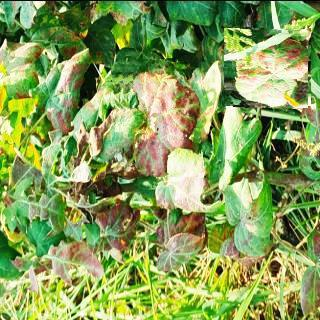blight: (114, 57, 201, 176), (226, 25, 308, 107)
